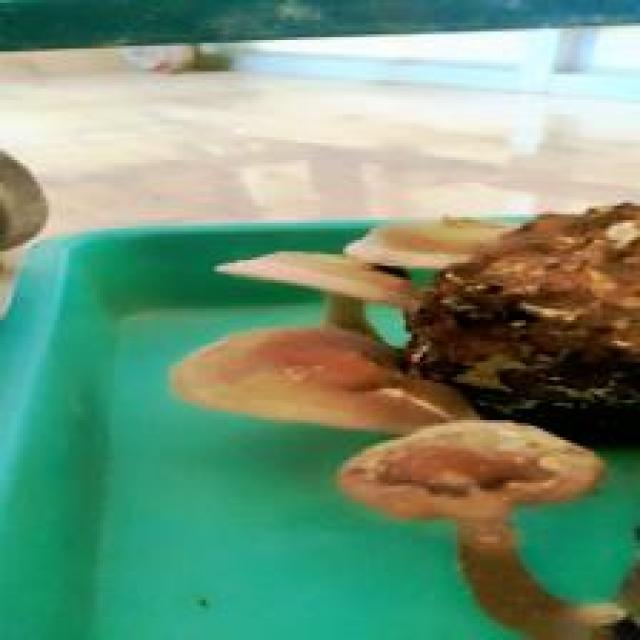chanterelle: (169, 194, 637, 637)
